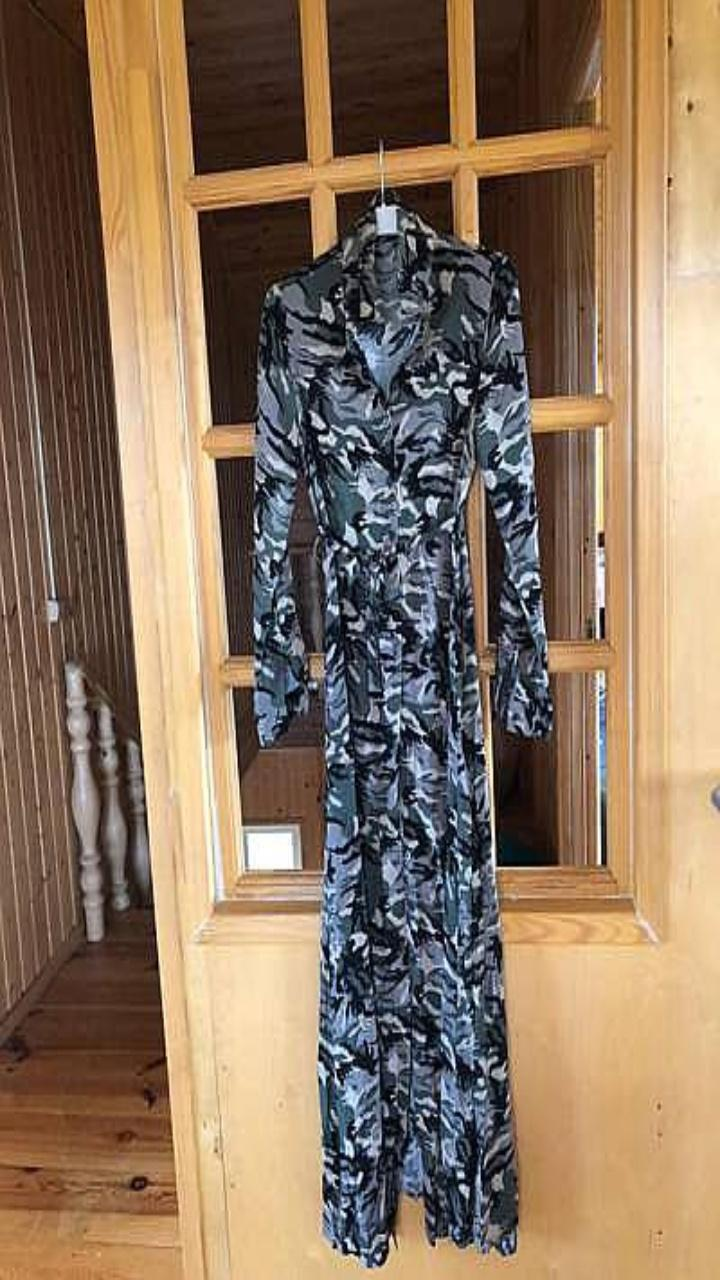Dresses: (253, 197, 551, 1266)
